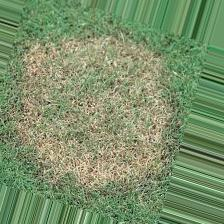patch: (27, 52, 162, 180), (51, 30, 141, 51), (8, 108, 25, 142), (164, 98, 174, 126)
